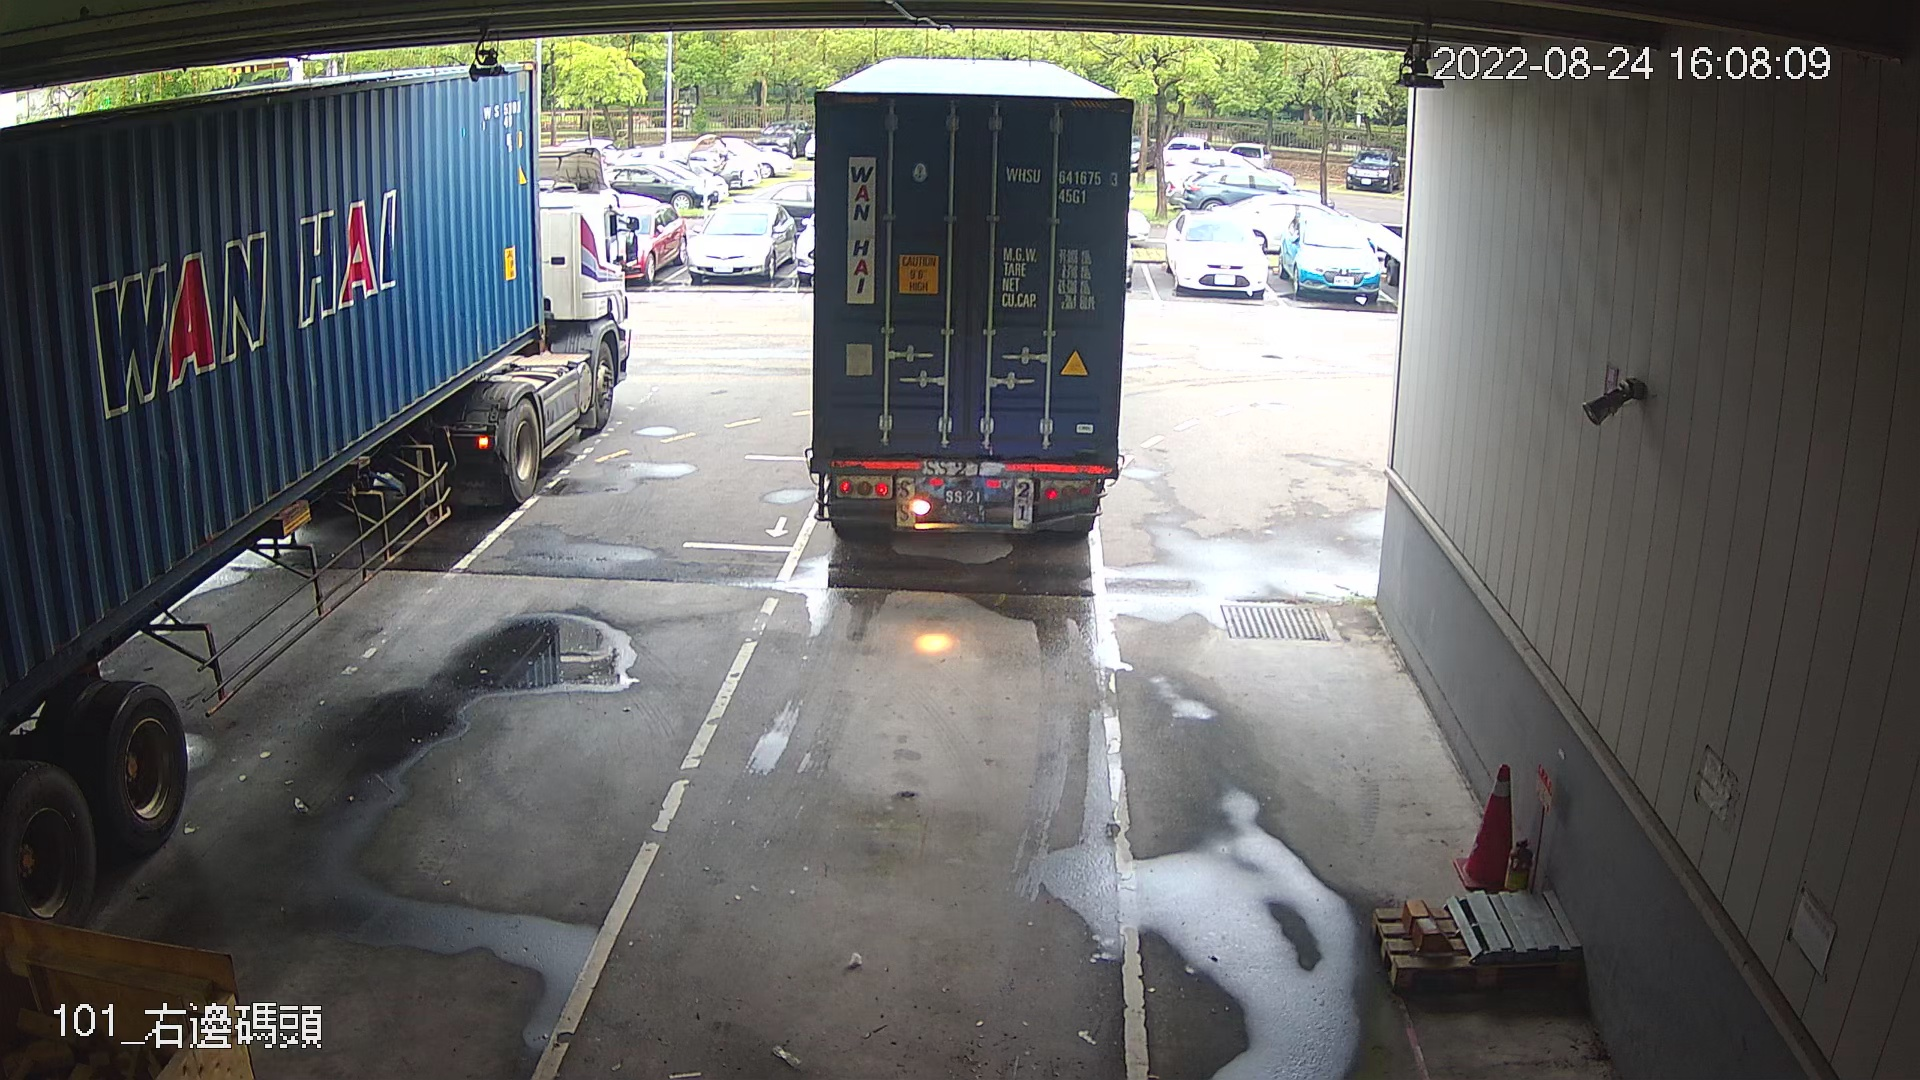container: (998, 156, 1122, 214)
